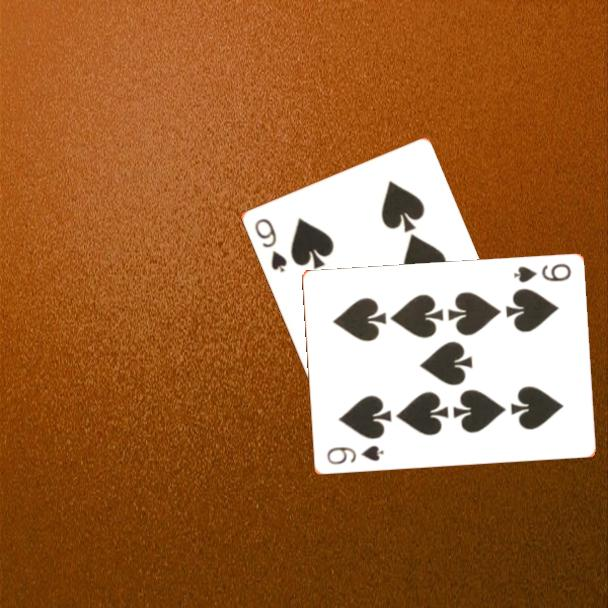s09: (251, 215, 289, 275), (510, 260, 574, 286), (323, 442, 386, 468)
